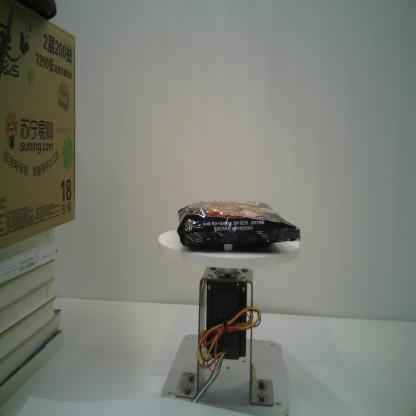Instant Noodles: (176, 198, 302, 249)
